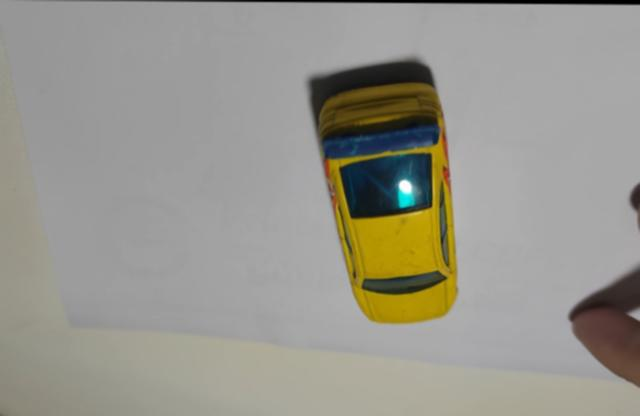02_OZSOME: (316, 79, 459, 322)
